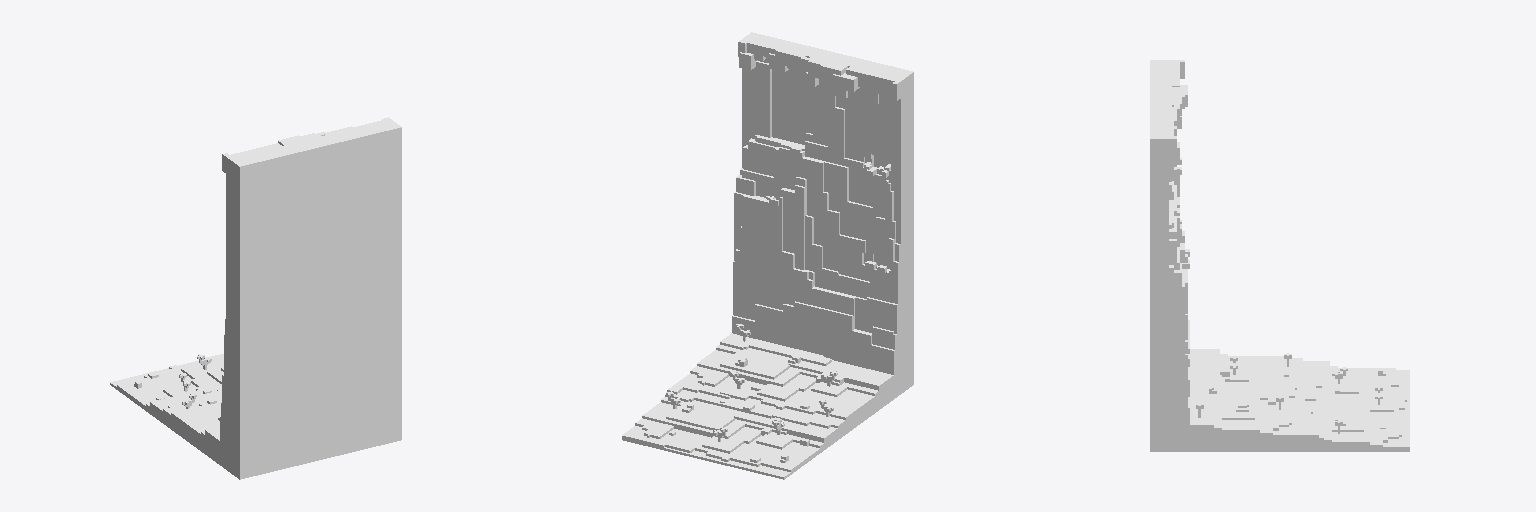
File: meadow_with_flowers.obj
3 views of the same model, side by side, from view 1: azimuth 30°, elevation 25°; view 2: azimuth 150°, elevation 25°; view 3: azimuth 270°, elevation 25° (orthographic).
Parts seen in each view (by area): view 1: object 1; view 2: object 1; view 3: object 1.
Boxes of the visible parts, box(x1,y1,x2,y2) form: object 1: box(110, 117, 401, 479); object 1: box(622, 32, 913, 479); object 1: box(1150, 60, 1409, 451).
Bounding box in the file's own units: 7 × 12.9 × 9.7.